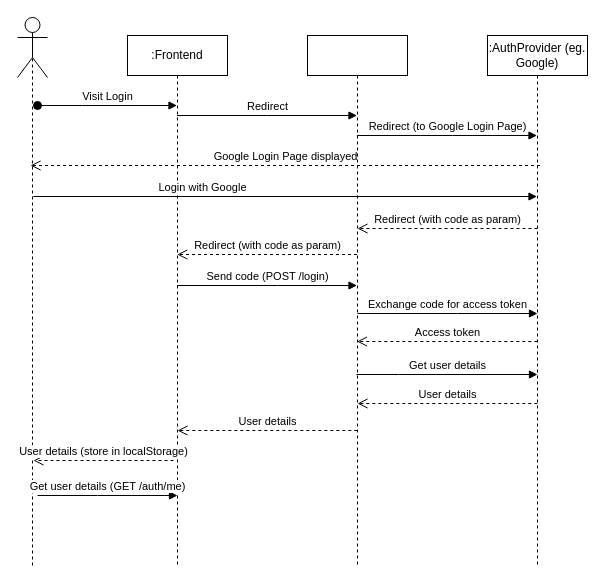
This 605x584 diagram has some shape labels left out. The box of each missing label's shape, as (x1, y1, x2, y2) in pixels:
:Backend: (306, 34, 408, 566)
User: (16, 16, 48, 78)
